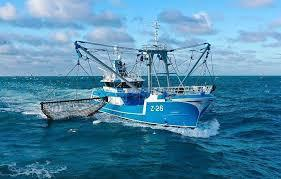Ship: (37, 18, 219, 133)
